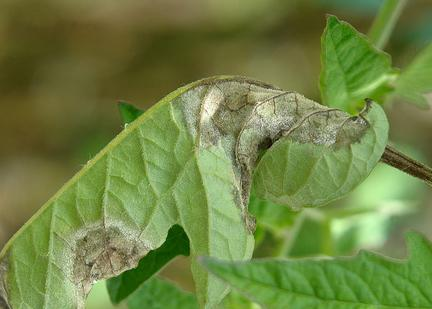Tomato leaf late blight: (0, 68, 392, 309), (158, 189, 432, 309)
